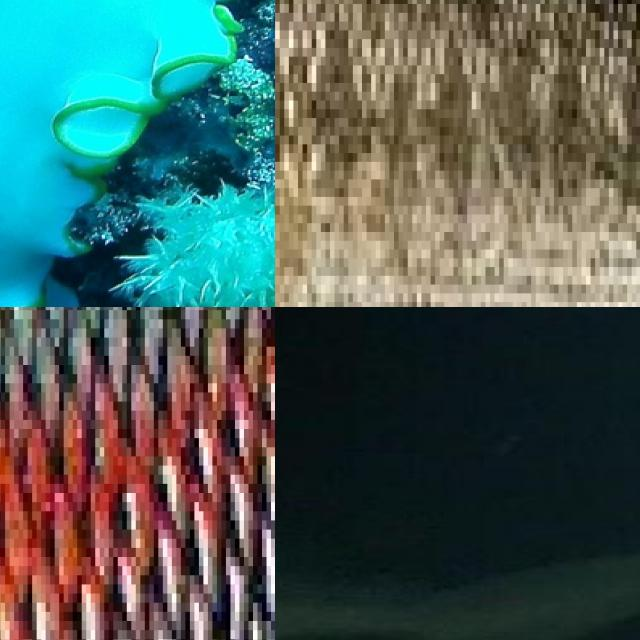fish: (275, 0, 640, 307), (0, 0, 275, 307), (14, 307, 226, 511), (275, 529, 640, 640)
